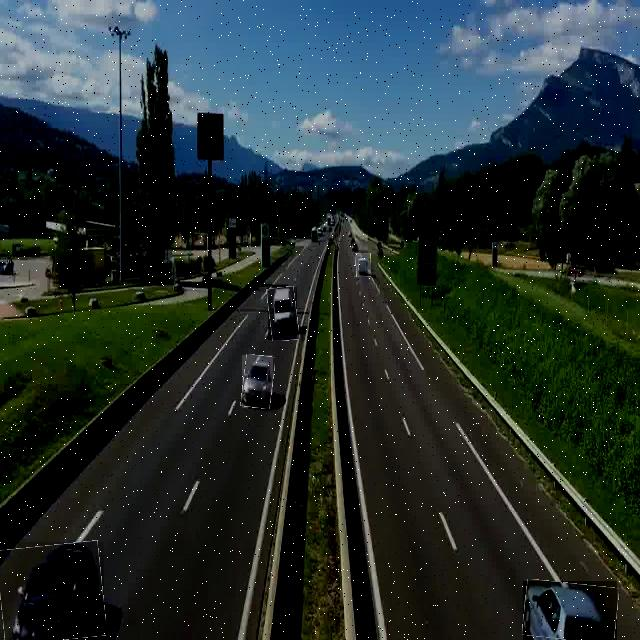Car: (0, 542, 104, 640), (523, 581, 617, 640), (242, 355, 273, 408), (268, 287, 297, 340), (356, 253, 371, 277)
